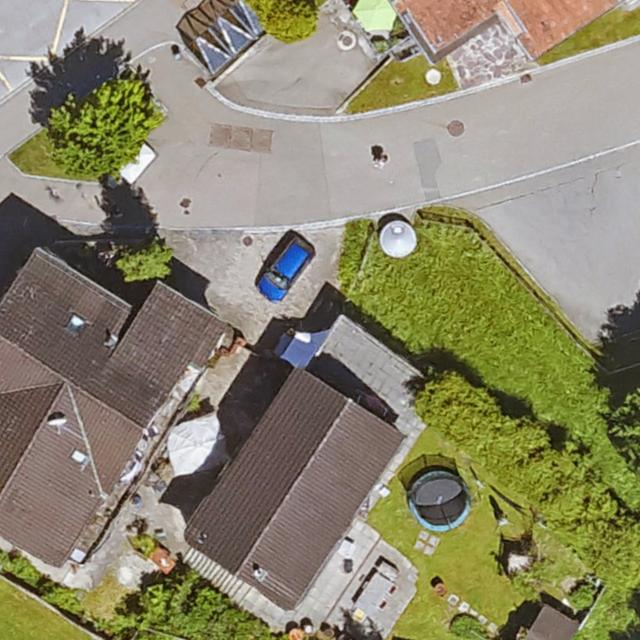tree: (411, 373, 507, 451), (40, 101, 137, 177), (90, 73, 169, 139), (481, 424, 552, 473), (511, 460, 586, 505), (609, 385, 640, 475), (266, 0, 319, 49), (114, 249, 172, 291), (571, 491, 620, 539)
